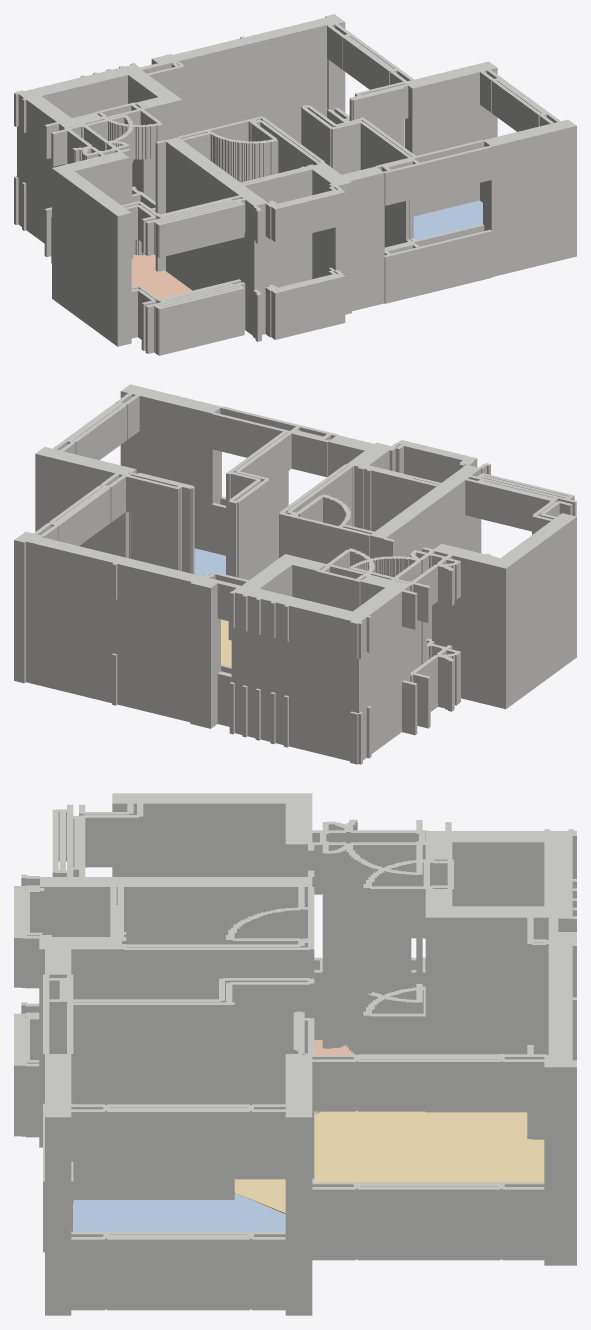
3 views of the same model, one above another, from view 1: azimuth 30°, elevation 25°; view 2: azimuth 150°, elevation 25°; view 3: azimuth 270°, elevation 25° (orthographic). The views are drawn at different scales.
Parts seen in each view (by area): view 1: walls, room:bedroom:4, room:kitchen:3; view 2: walls, room:bedroom:4; view 3: walls, room:living:1, room:bedroom:4.
Boxes of the visible parts, x1=… form: walls: x1=14, y1=14, x2=576, y2=355; room:bedroom:4: x1=413, y1=200, x2=482, y2=239; room:kitchen:3: x1=131, y1=254, x2=191, y2=298; walls: x1=14, y1=384, x2=576, y2=764; room:bedroom:4: x1=194, y1=548, x2=225, y2=576; walls: x1=14, y1=793, x2=576, y2=1315; room:living:1: x1=234, y1=1111, x2=544, y2=1213; room:bedroom:4: x1=73, y1=1193, x2=285, y2=1232.
Size of the model in its own units: 9.8 by 2.8 by 7.2.
